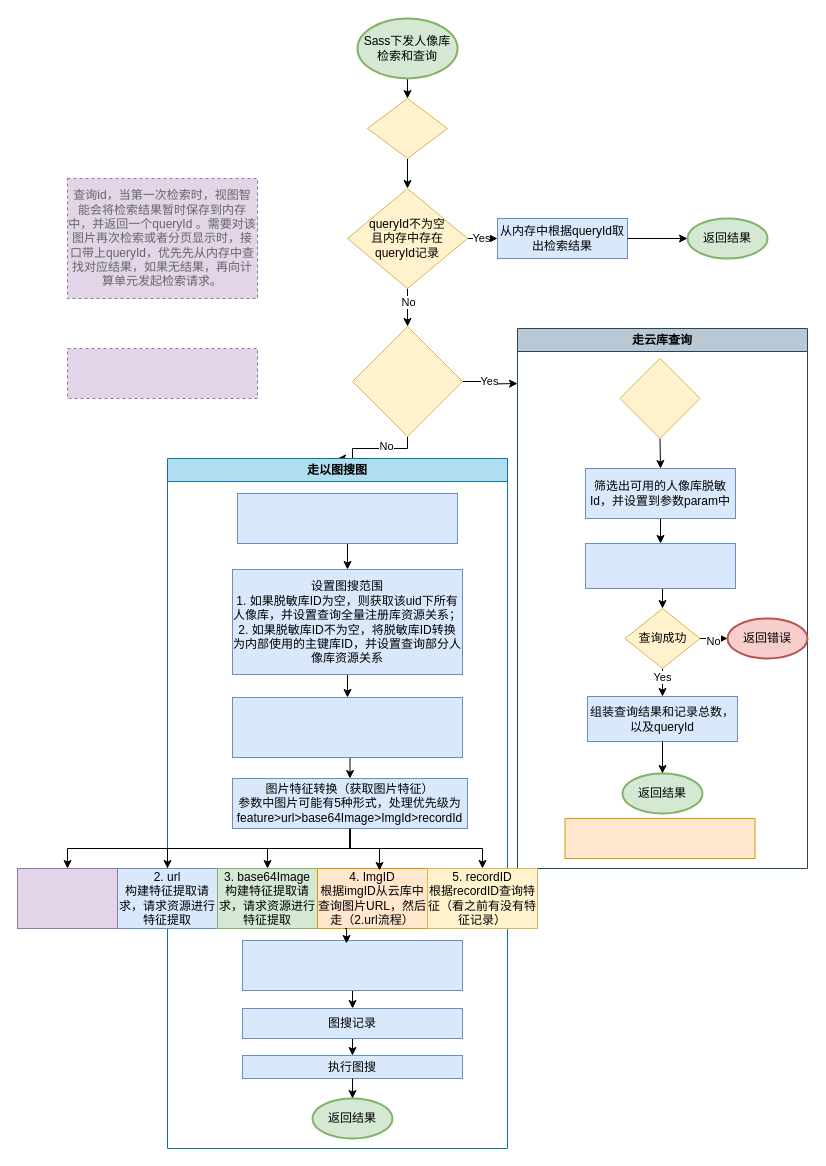
Some shapes in this 826 by 1166 pixel diagram are drawn without their labels. Here are the shapes that lost their labels. From the top down, the centre of each, then its label:
the point at 407,128: 参数检验
the point at 162,373: 参数包含 faceImage，faceImageId，feature，faceUrl，faceRecordId
the point at 407,381: 请求参数中 与图片相关的 参数都 为空
the point at 659,398: 参数中库 IDs不为空
the point at 347,518: 构建图搜上下文（根据请求参数param构建一个retrievalRequest）
the point at 660,565: 根据参数param构建云库查询参数，并从云库进行查询
the point at 347,727: 库资源关系转换 根据参数获取库资源关系，将库资源组成Map<Address,Set<ResourceInfo>>设置到上下文中
the point at 659,838: 通过自定义的注解Statistic， 将queryId及其记录写到内存中
the point at 67,898: 1. feature 有特征则直接获取特征
the point at 352,965: 图搜任务分组 （根据库资源的Address进行分组，方便后面提交任务和统计）
